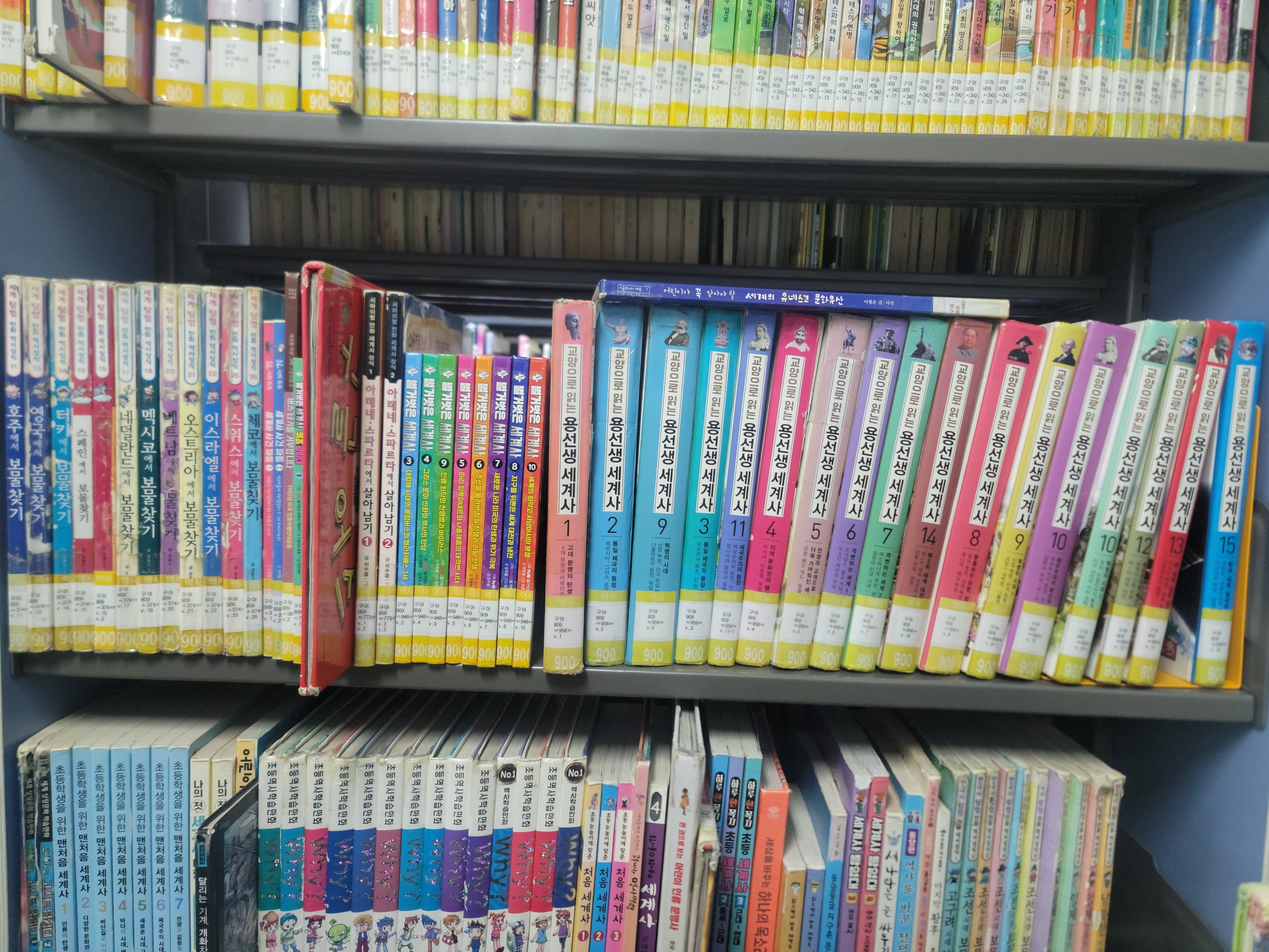book-spine: (997, 318, 1138, 682), (1051, 318, 1180, 687), (917, 319, 1049, 677), (965, 321, 1088, 681), (1124, 318, 1240, 688), (876, 317, 995, 675), (1093, 320, 1208, 687), (840, 319, 950, 674), (806, 317, 909, 673), (770, 311, 871, 672), (734, 313, 825, 672), (1190, 321, 1267, 689), (625, 305, 703, 665), (705, 310, 777, 670), (671, 309, 742, 670), (583, 302, 645, 666), (541, 300, 596, 675), (373, 290, 405, 666), (352, 292, 384, 667), (21, 278, 52, 651), (511, 359, 548, 670), (1, 275, 30, 652), (476, 357, 511, 666), (494, 358, 529, 667), (442, 355, 475, 666), (460, 356, 493, 667), (426, 354, 457, 663), (48, 285, 74, 651), (392, 352, 422, 665), (69, 282, 94, 652), (409, 354, 439, 662), (114, 287, 138, 653), (92, 280, 115, 653), (178, 288, 201, 654), (136, 284, 158, 654), (159, 284, 180, 651), (202, 287, 223, 654), (243, 298, 261, 656), (225, 295, 242, 656), (288, 271, 302, 663), (280, 332, 296, 662), (272, 322, 285, 659), (262, 317, 274, 657)
